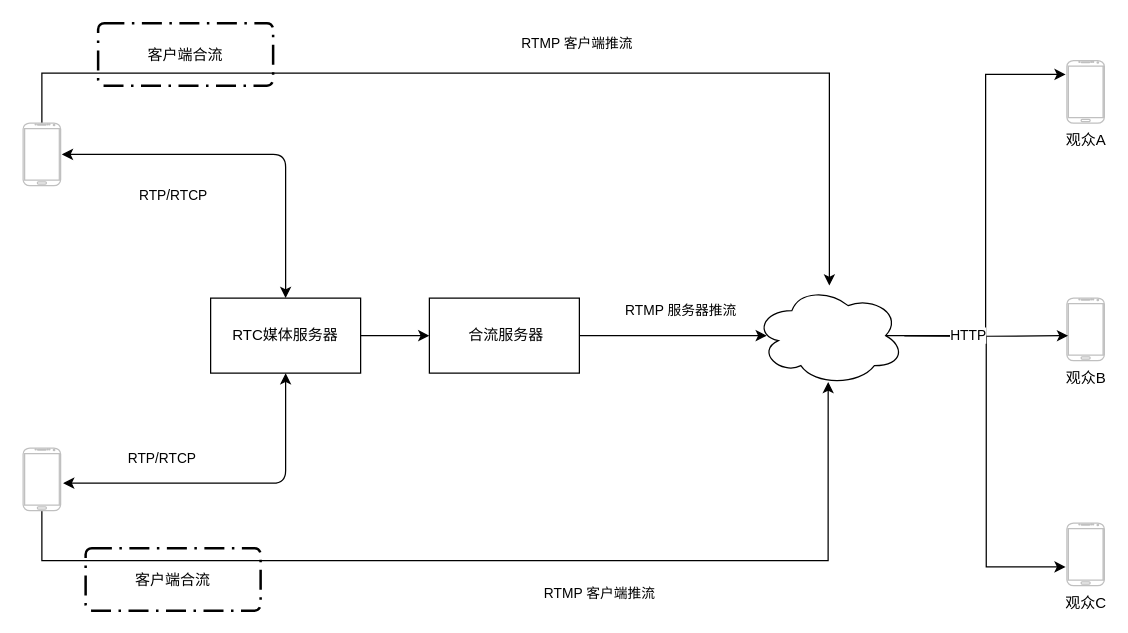
Image size: 1128x633. Some labels were removed from this diagram. Each missing label, with the centre of its shape:
CDN: the point at 828,335
主播A: the point at 41,154
主播B: the point at 41,479
